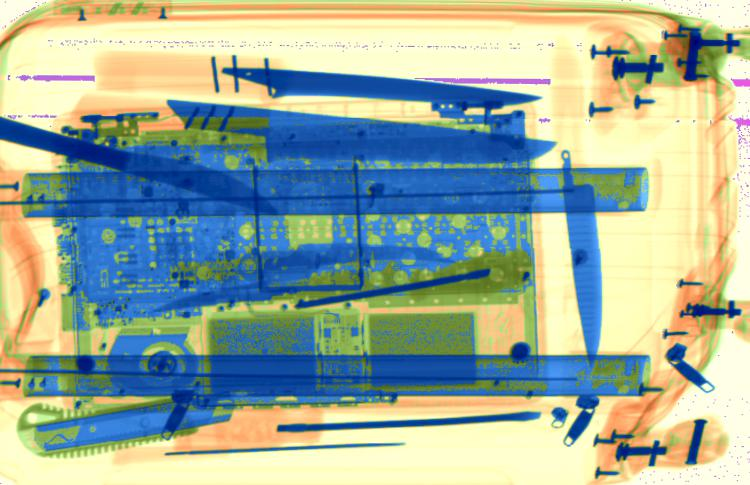Knife: (1, 117, 279, 217), (92, 51, 543, 110), (161, 98, 557, 162), (559, 149, 603, 367)
